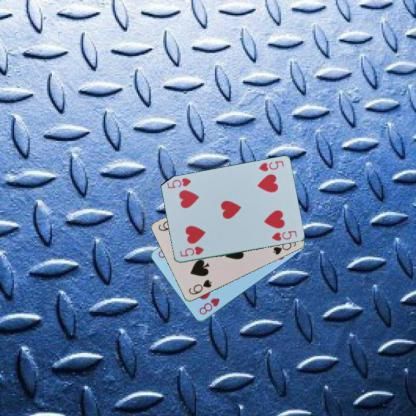5h: (256, 158, 285, 173), (177, 244, 204, 258)
6s: (186, 277, 213, 296)
8h: (196, 296, 221, 316)
